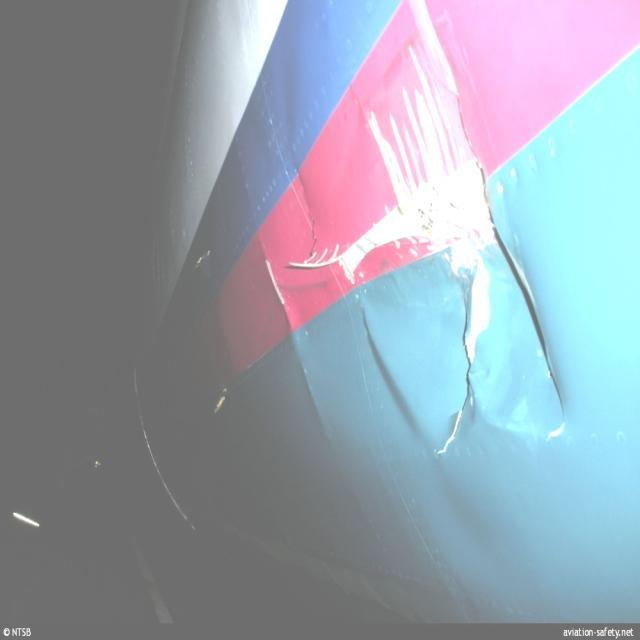crack: (435, 292, 477, 459)
dent: (361, 308, 433, 453), (479, 275, 534, 433)
